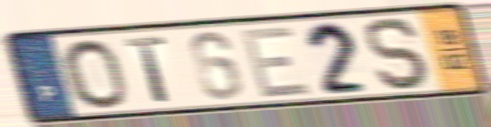2: (304, 16, 378, 100)
6: (188, 29, 245, 102)
E: (237, 23, 316, 101)
O: (59, 37, 131, 111)
S: (364, 15, 435, 92)
T: (121, 34, 173, 105)
